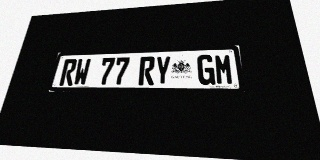7: (112, 57, 130, 85), (97, 58, 115, 85)
G: (197, 54, 215, 85)
M: (214, 54, 234, 85)
R: (59, 59, 78, 86), (138, 56, 155, 85)
W: (73, 58, 91, 86)
Y: (154, 56, 171, 85)
